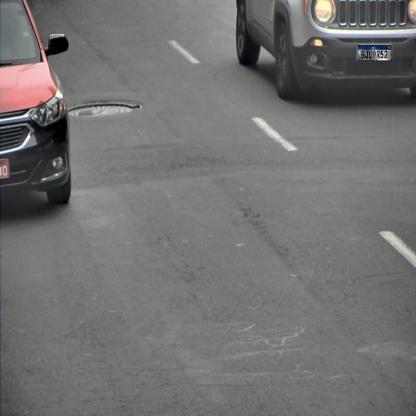PlacaM: (358, 45, 392, 61)
